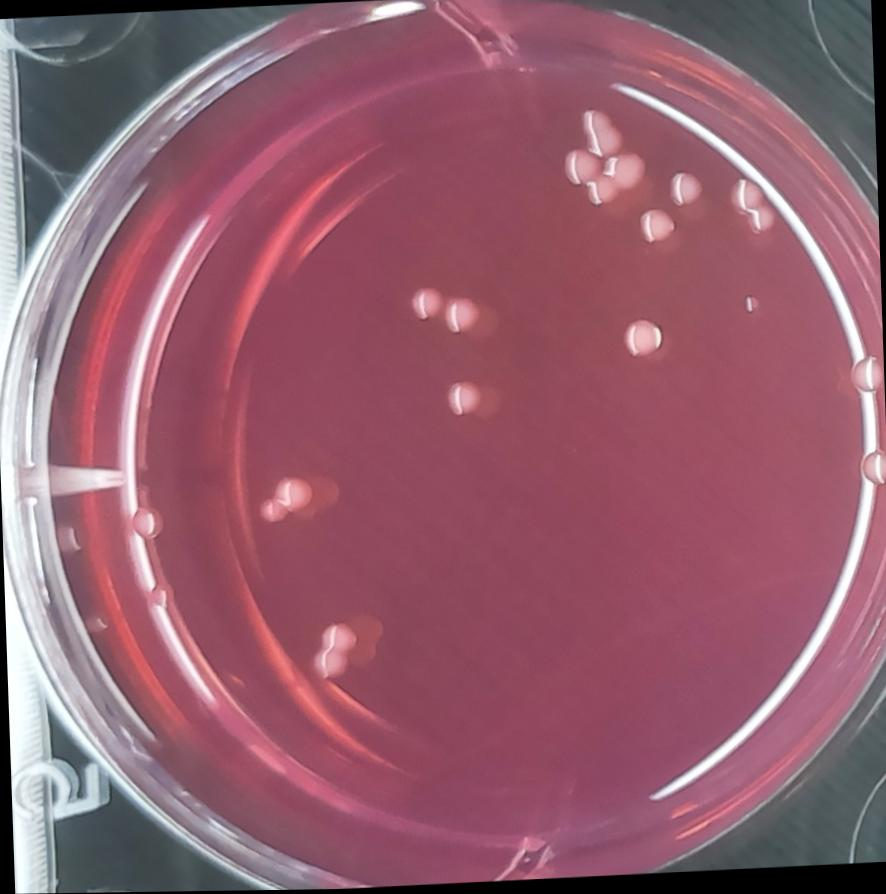bcereus: (252, 468, 335, 532), (609, 309, 676, 380), (438, 374, 496, 427), (690, 254, 691, 255)
